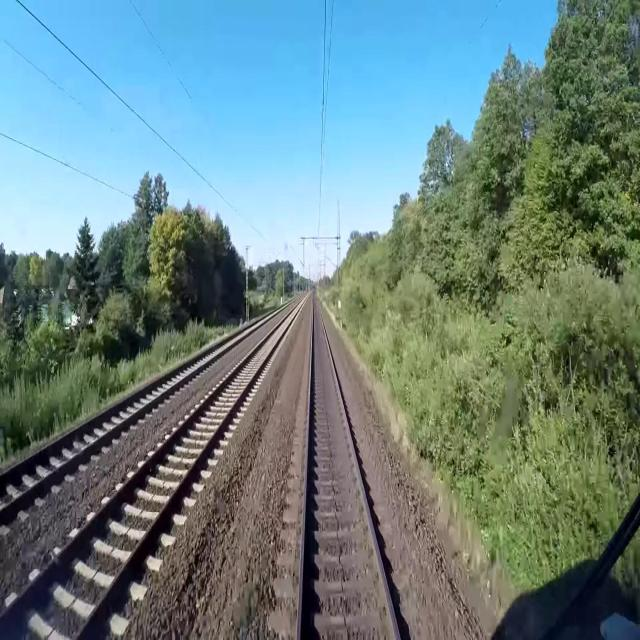rail-track: (0, 302, 301, 639), (0, 319, 264, 505), (301, 295, 396, 639)
